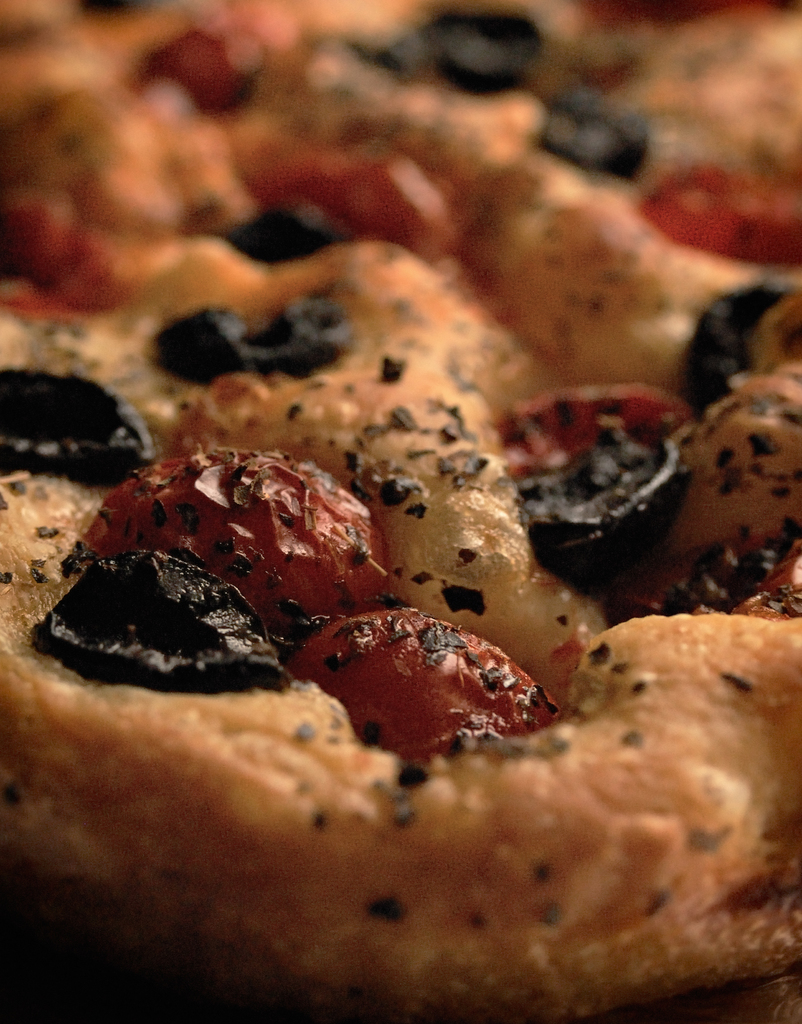Pizza: (0, 0, 801, 1017)
